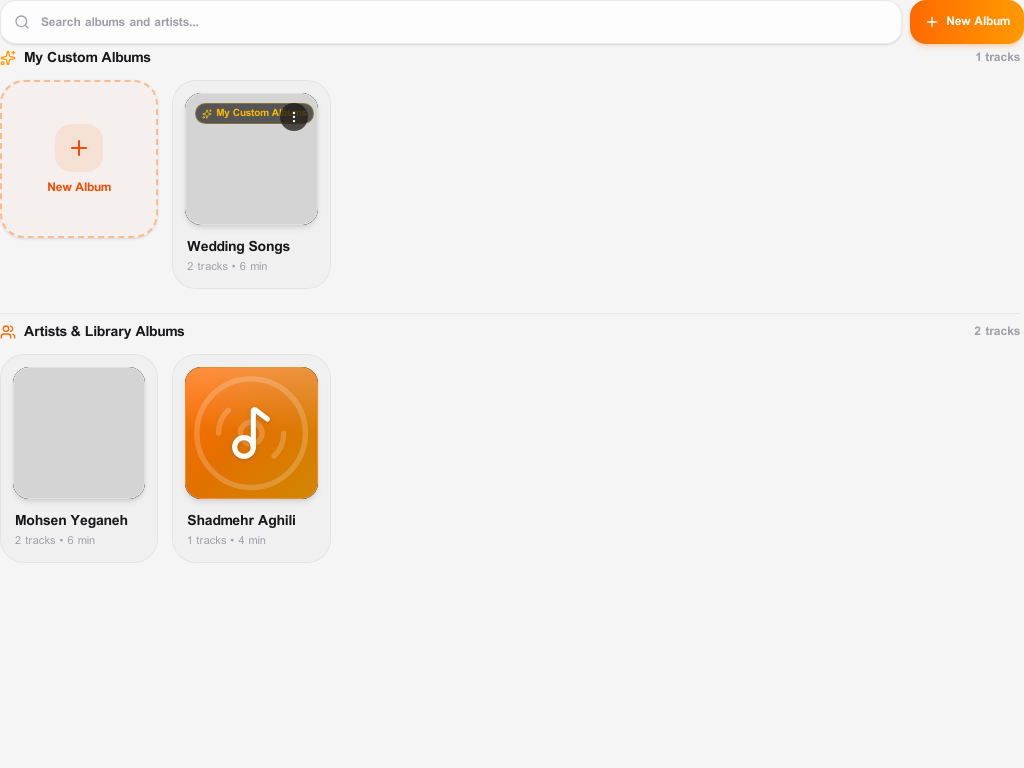
Test: AlbumsView Component › creates a new custom album and adds it to the first row
This screenshot has width=1024, height=768.
Note: Click create button
Step 1. Click the 1st button "New Album" → {"x": 967, "y": 22}, box [910,0,1023,44]
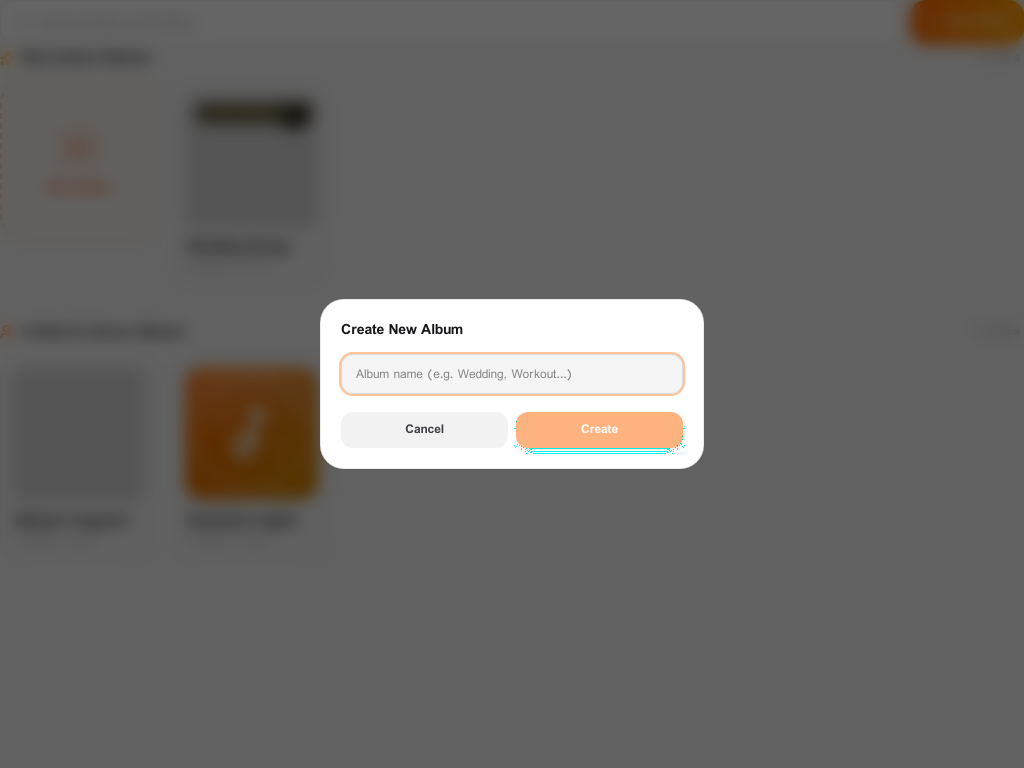
Note: Fill form
Step 2. Type "Workout Playlist" into the field with placeholder "Album name (e.g. Wedding, Workout...)" → {"x": 512, "y": 374}, box [341,354,683,394]
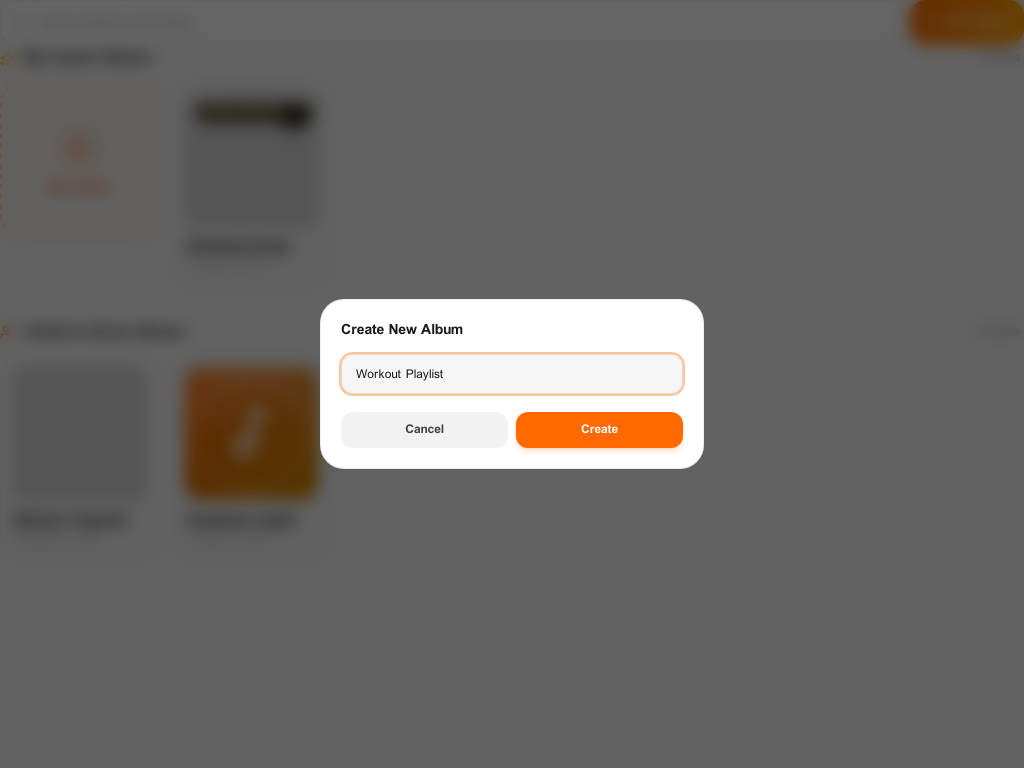
Step 3. Click the button "Create" → {"x": 600, "y": 430}, box [516,412,683,448]
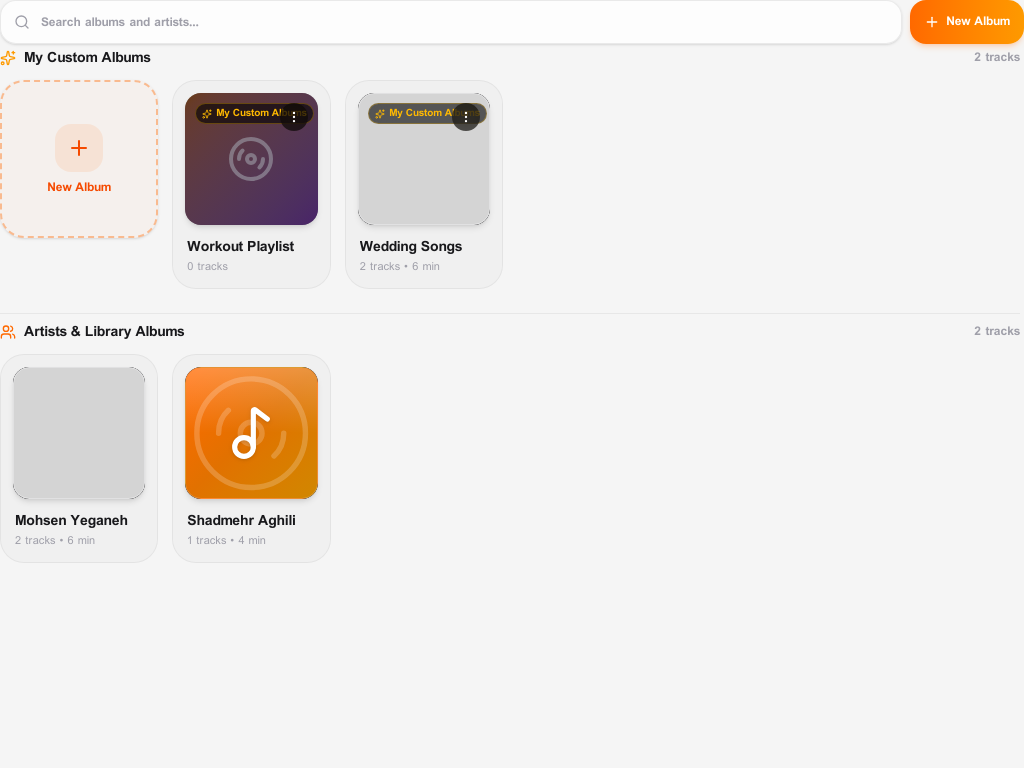
Check: the heading "Workout Playlist" is shown, box [187,235,294,259]
